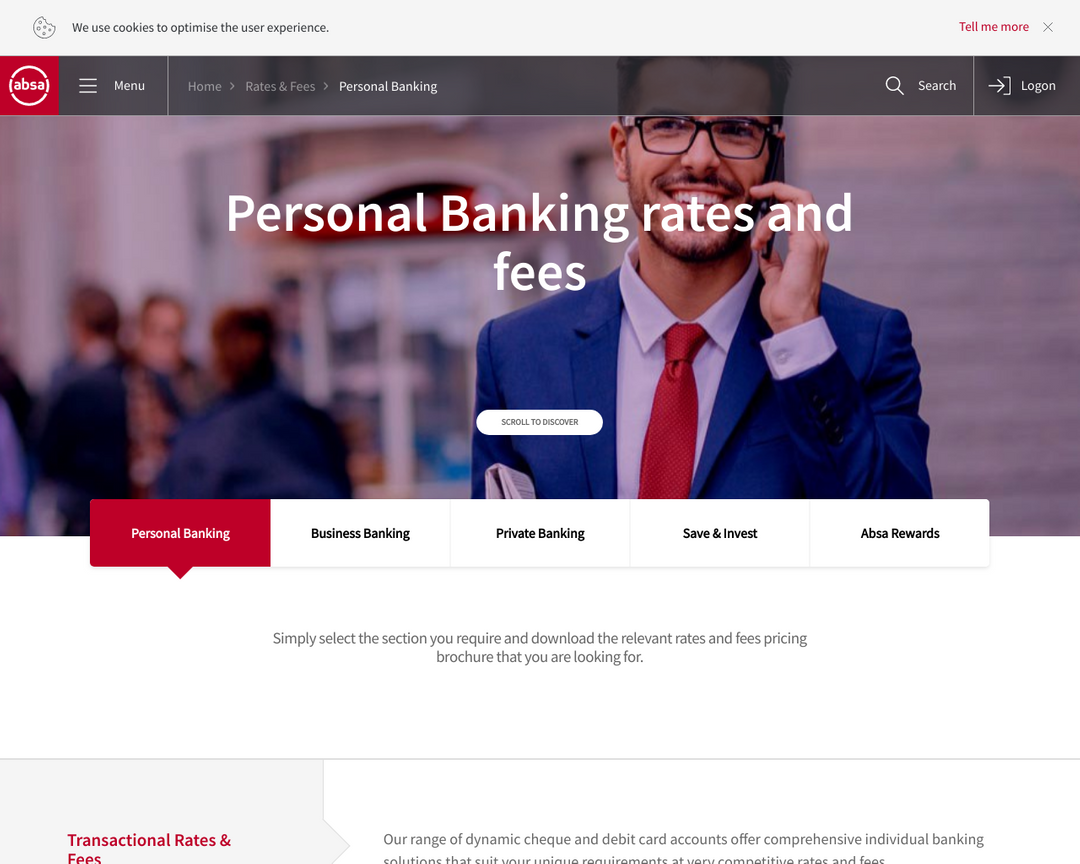ABSA: (9, 64, 50, 108)
